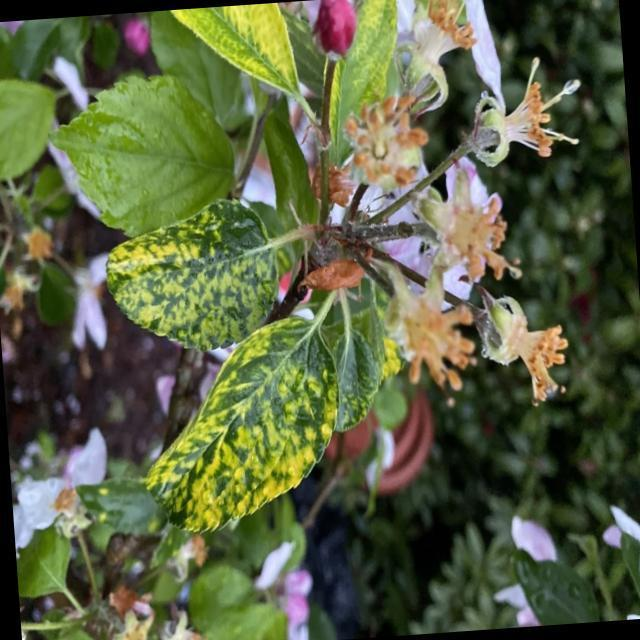Mosaic Virus: (146, 323, 337, 528), (114, 203, 276, 347)
